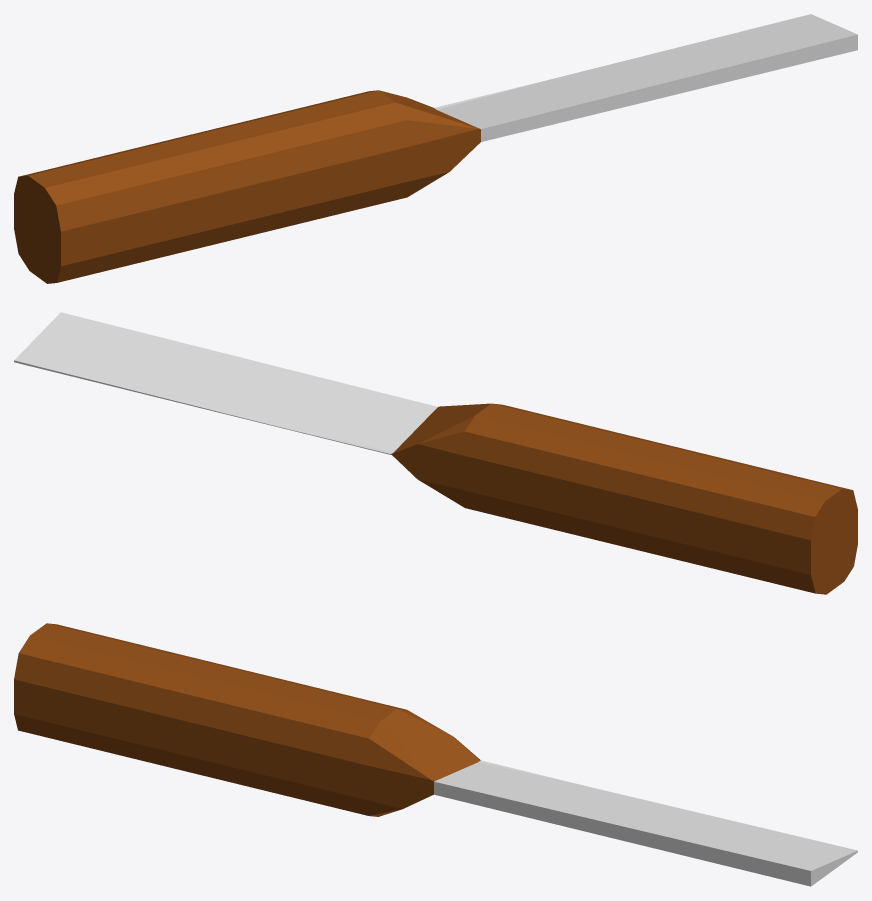
The model's file is knife.fbx.
The picture shows the model from 3 angles, top to bottom: view 1: azimuth 30°, elevation 25°; view 2: azimuth 150°, elevation 25°; view 3: azimuth 330°, elevation 25°; orthographic projection.
Parts seen in each view (by area): view 1: Cube; view 2: Cube; view 3: Cube.
Part boxes in pixels (x1=…): Cube: x1=14, y1=14, x2=857, y2=283; Cube: x1=14, y1=312, x2=857, y2=594; Cube: x1=14, y1=623, x2=857, y2=886.
Size of the model in its own units: 1.61 by 0.1642 by 0.182.
